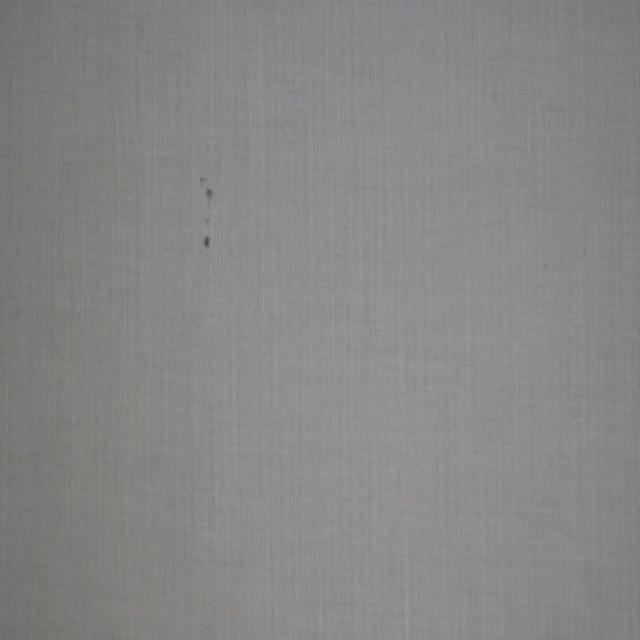dirty: (196, 174, 220, 252)
